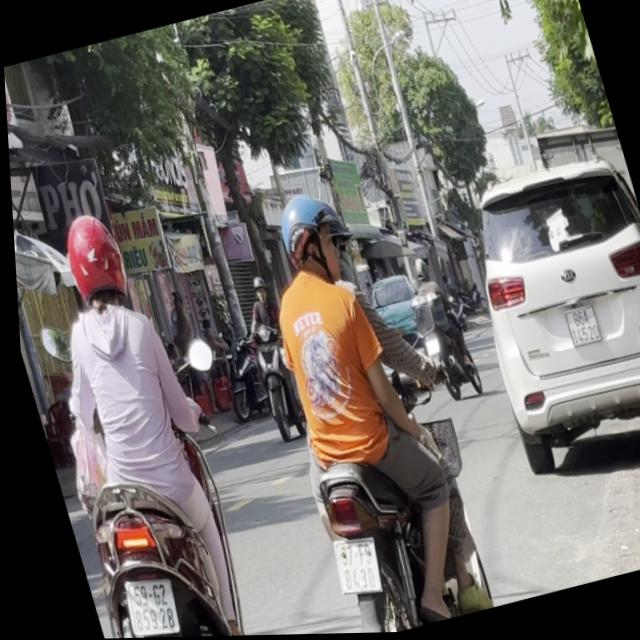helmet: (48, 206, 132, 317), (263, 185, 342, 290)
licenseplate: (213, 164, 497, 636), (9, 193, 268, 640)
nohelmet: (111, 574, 172, 639), (320, 534, 377, 597)
